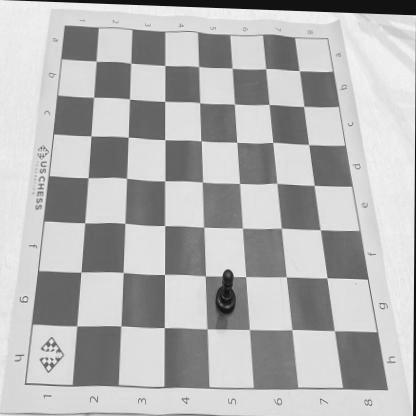black-pawn: (216, 266, 238, 312)
